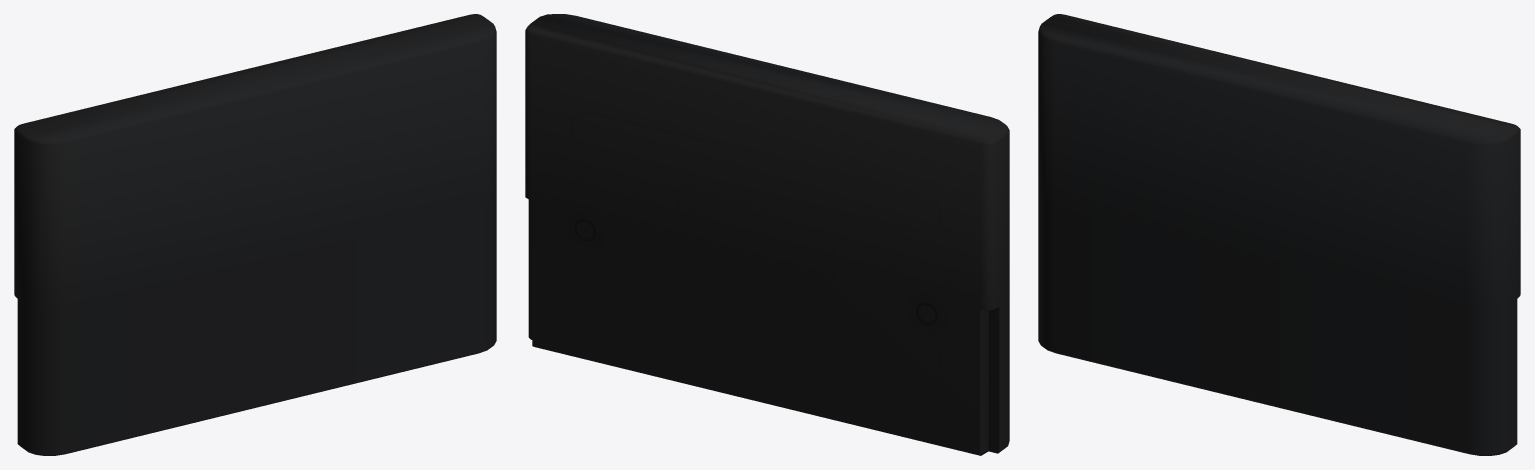
The model's file is megadrive-cartridge.glb.
3 renders of one model, left to right at view 1: azimuth 30°, elevation 25°; view 2: azimuth 150°, elevation 25°; view 3: azimuth 330°, elevation 25°, orthographic.
Visible parts, largest first — view 1: Cartridge_01 - Default_0; view 2: Cartridge_01 - Default_0; view 3: Cartridge_01 - Default_0.
Part boxes in pixels (x1=…): Cartridge_01 - Default_0: x1=14, y1=14, x2=496, y2=455; Cartridge_01 - Default_0: x1=525, y1=14, x2=1009, y2=455; Cartridge_01 - Default_0: x1=1038, y1=14, x2=1520, y2=455.
Bounding box in the file's own units: 0.1675 × 0.1078 × 0.0182.
Materials: 1 (1 with a texture image).
